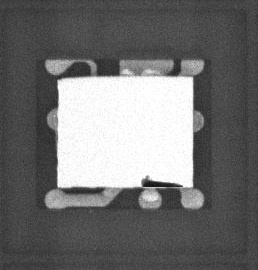DIE_BROKEN: (141, 175, 185, 188)
